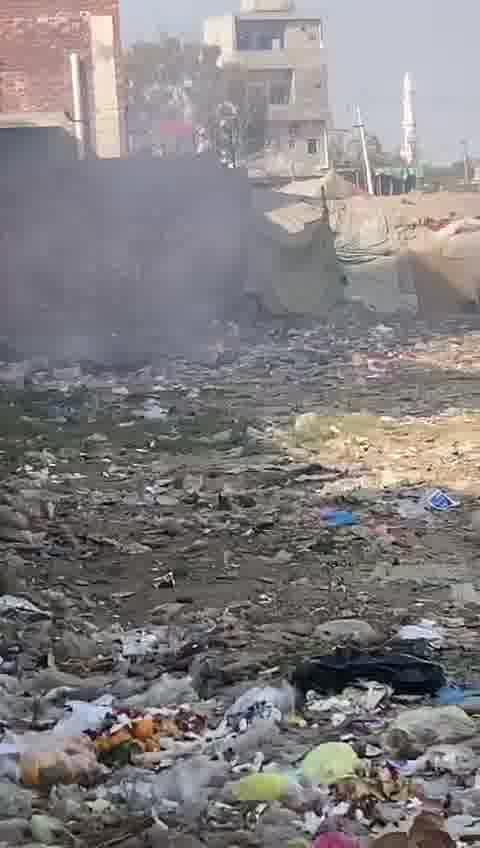garbage: (0, 348, 467, 848)
